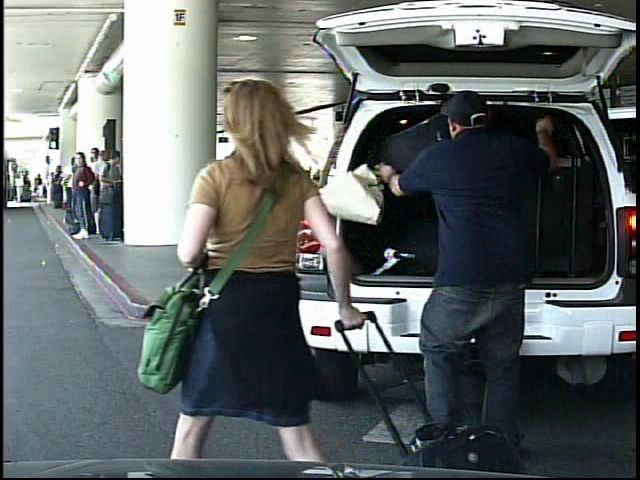person: (176, 65, 355, 464), (380, 77, 548, 428), (15, 174, 26, 204), (35, 173, 46, 200)
